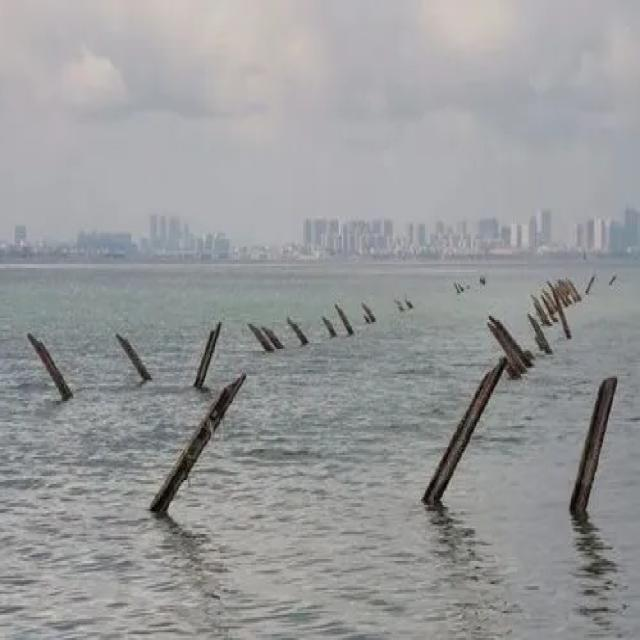buoy: (414, 350, 509, 520), (151, 373, 256, 526), (543, 364, 628, 528), (26, 320, 90, 390), (183, 308, 234, 394), (114, 321, 164, 392), (483, 318, 532, 382), (290, 313, 314, 351), (358, 292, 376, 330), (335, 303, 351, 335), (322, 314, 336, 340)
